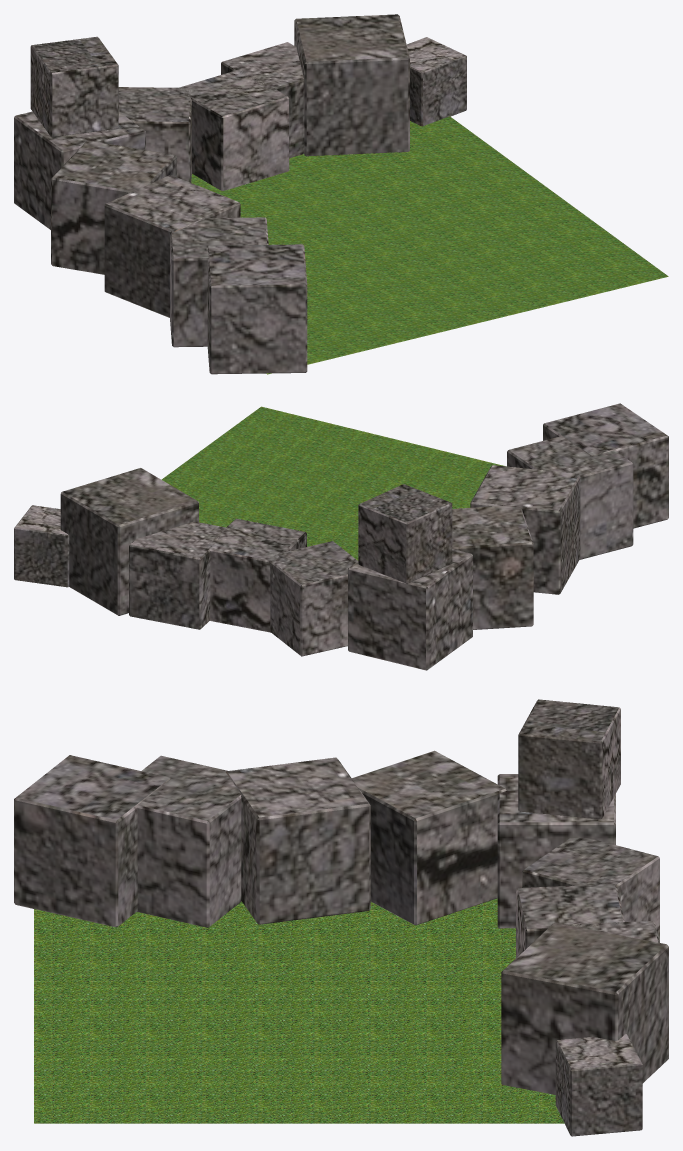
The model's file is rightkarb.FBX.
The picture shows the model from 3 angles, top to bottom: view 1: azimuth 30°, elevation 25°; view 2: azimuth 150°, elevation 25°; view 3: azimuth 270°, elevation 25°; orthographic projection. The views are drawn at different scales.
Parts seen in each view (by area): view 1: rightkarb, Cube.046, Cube.051, Cube.044, Cube.049, Cube.048, Cube.052, Cube.050, Cube.042, Cube.043, Cube.047, Cube.045; view 2: rightkarb, Cube.046, Cube.042, Cube.048, Cube.043, Cube.049, Cube.045, Cube.052, Cube.050, Cube.044, Cube.051, Cube.047; view 3: rightkarb, Cube.046, Cube.049, Cube.048, Cube.051, Cube.050, Cube.052, Cube.047, Cube.043, Cube.042, Cube.044, Cube.045.
Boxes of the visible parts, box(x1,y1,x2,y2) form: rightkarb: box(191, 116, 668, 374); Cube.046: box(294, 14, 409, 156); Cube.051: box(207, 244, 307, 374); Cube.044: box(176, 69, 289, 190); Cube.049: box(104, 175, 240, 317); Cube.048: box(51, 140, 176, 274); Cube.052: box(30, 36, 118, 137); Cube.050: box(170, 217, 268, 347); Cube.042: box(14, 111, 145, 229); Cube.043: box(118, 87, 191, 182); Cube.047: box(406, 37, 466, 126); Cube.045: box(221, 42, 304, 158); rightkarb: box(161, 406, 506, 560); Cube.046: box(60, 468, 198, 615); Cube.042: box(348, 549, 472, 670); Cube.048: box(452, 505, 533, 629); Cube.043: box(270, 541, 357, 656); Cube.049: box(470, 465, 580, 594); Cube.045: box(129, 521, 225, 629); Cube.052: box(358, 484, 452, 583); Cube.050: box(507, 436, 633, 559); Cube.044: box(205, 518, 306, 632); Cube.051: box(543, 403, 668, 528); Cube.047: box(14, 505, 69, 587); rightkarb: box(34, 898, 564, 1123); Cube.046: box(501, 923, 668, 1094); Cube.049: box(226, 757, 370, 924); Cube.048: box(351, 750, 506, 925); Cube.051: box(14, 755, 170, 927); Cube.050: box(137, 755, 241, 927); Cube.052: box(518, 699, 620, 819); Cube.047: box(555, 1034, 642, 1136); Cube.043: box(522, 838, 659, 942); Cube.042: box(497, 774, 615, 928); Cube.044: box(516, 884, 624, 957); Cube.045: box(564, 921, 659, 942).
Size of the model in its own units: 1176 by 1167 by 365.
